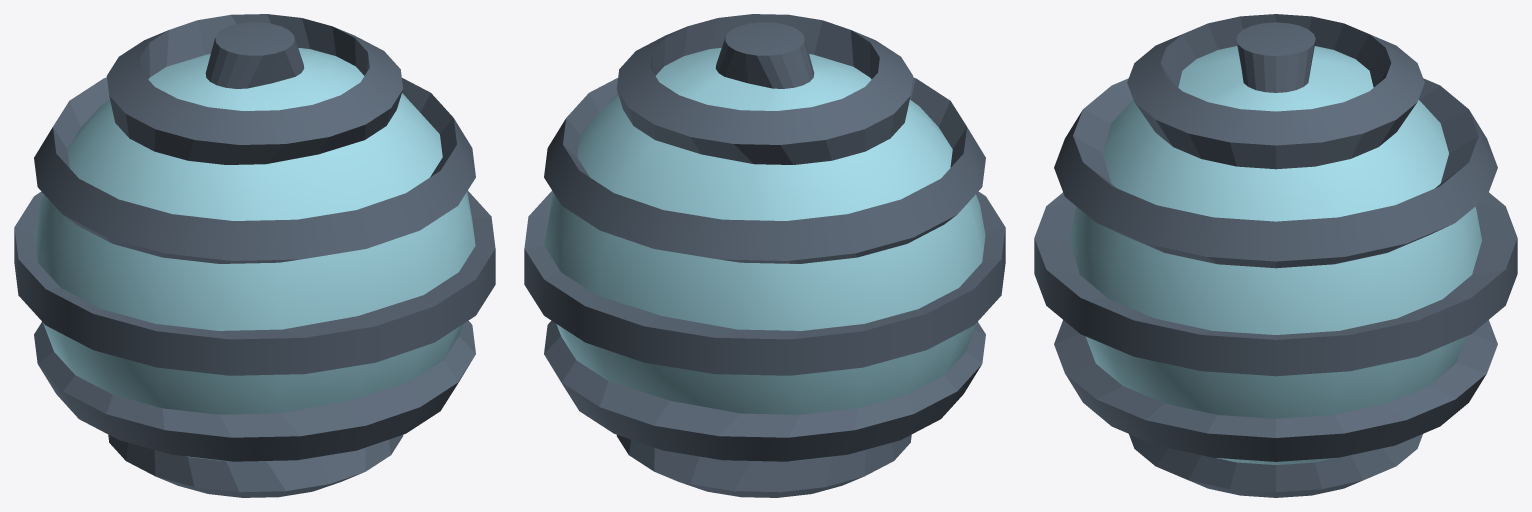
The model's file is villager1.fbx.
3 views of the same model, side by side, from view 1: azimuth 30°, elevation 25°; view 2: azimuth 150°, elevation 25°; view 3: azimuth 270°, elevation 25° (orthographic).
Parts seen in each view (by area): view 1: pSphere23; view 2: pSphere23; view 3: pSphere23.
Boxes of the visible parts, bbox=[...] form: pSphere23: bbox=[14, 14, 495, 497]; pSphere23: bbox=[524, 14, 1005, 497]; pSphere23: bbox=[1034, 14, 1517, 497].
Bounding box in the file's own units: 58.31 × 58.51 × 58.31.
